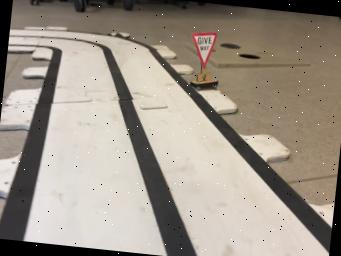give_way: (190, 32, 218, 90), (190, 32, 218, 90), (190, 32, 218, 90), (190, 32, 218, 90), (190, 32, 218, 90), (190, 32, 218, 90)
street: (0, 28, 331, 256), (0, 28, 331, 256), (0, 28, 331, 256), (0, 28, 331, 256), (0, 28, 331, 256), (0, 28, 331, 256)
